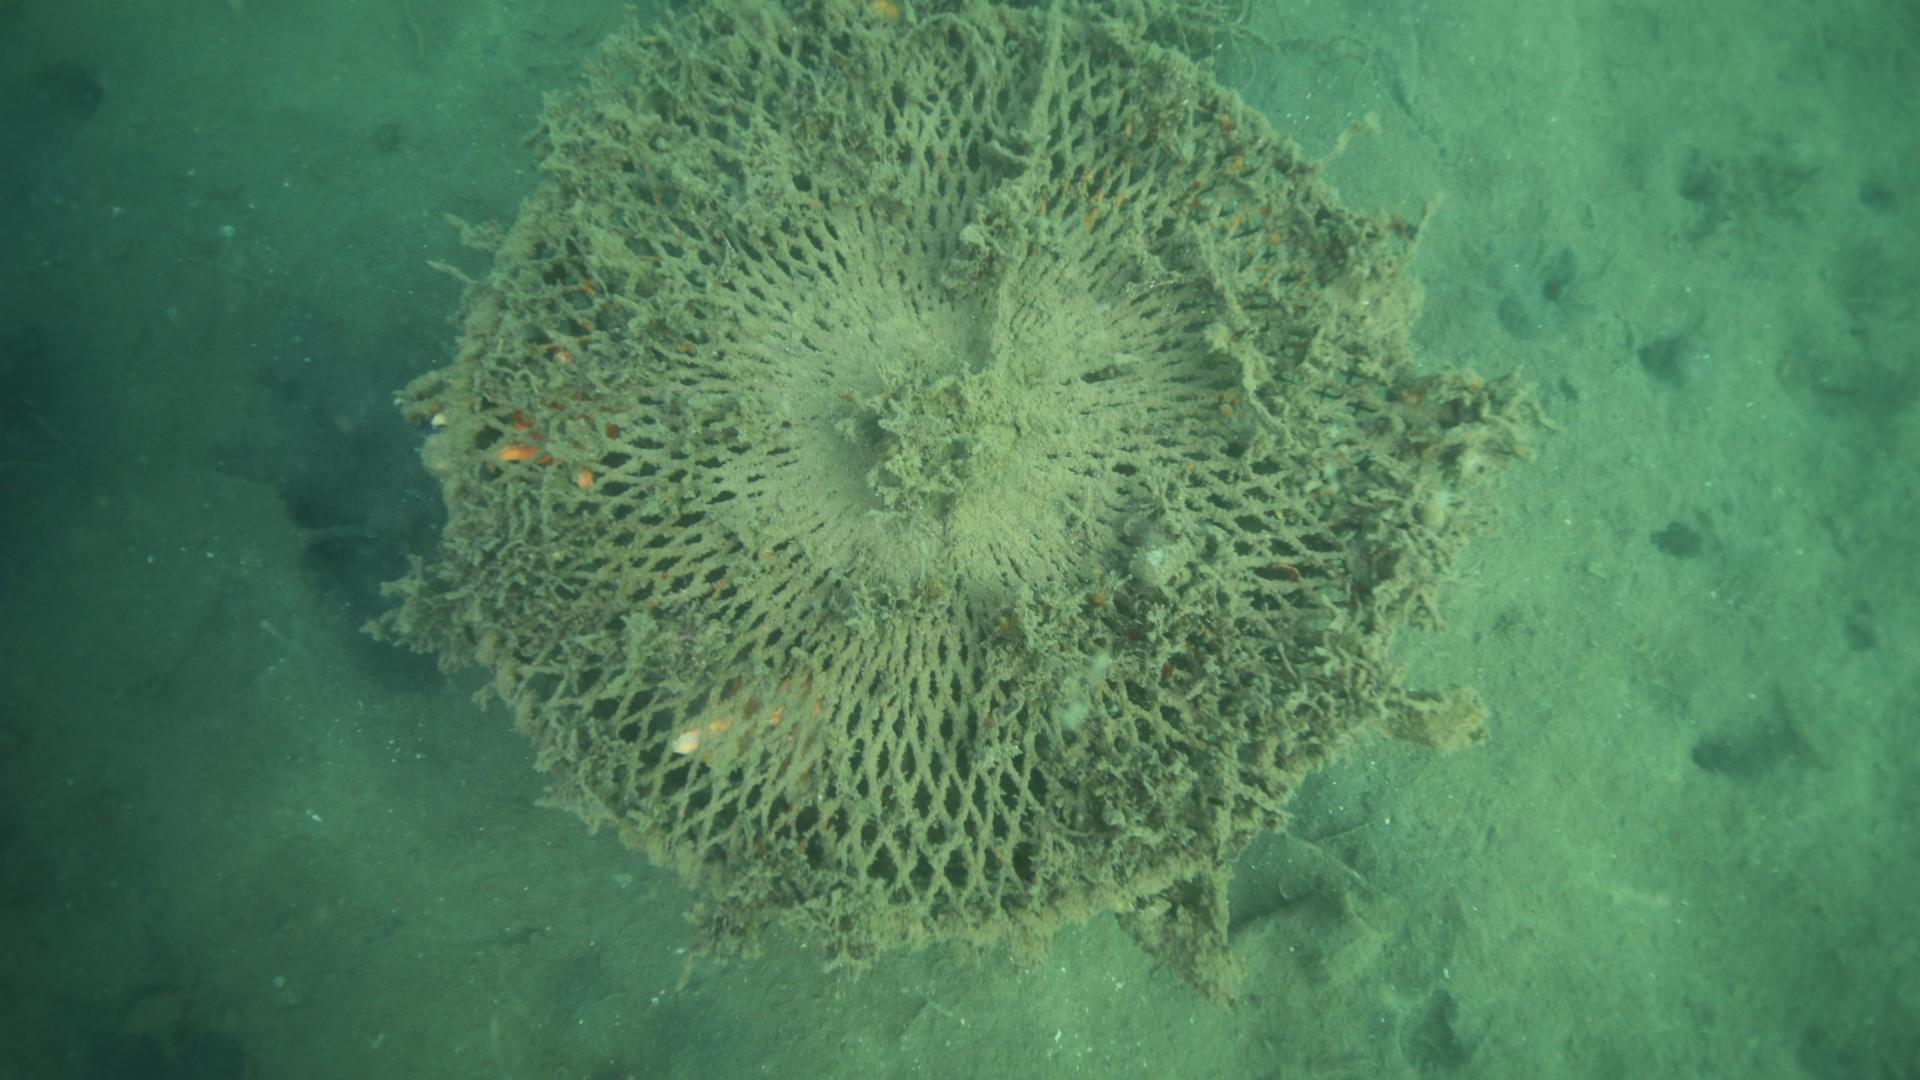circular fish trap: (438, 0, 1455, 949)
